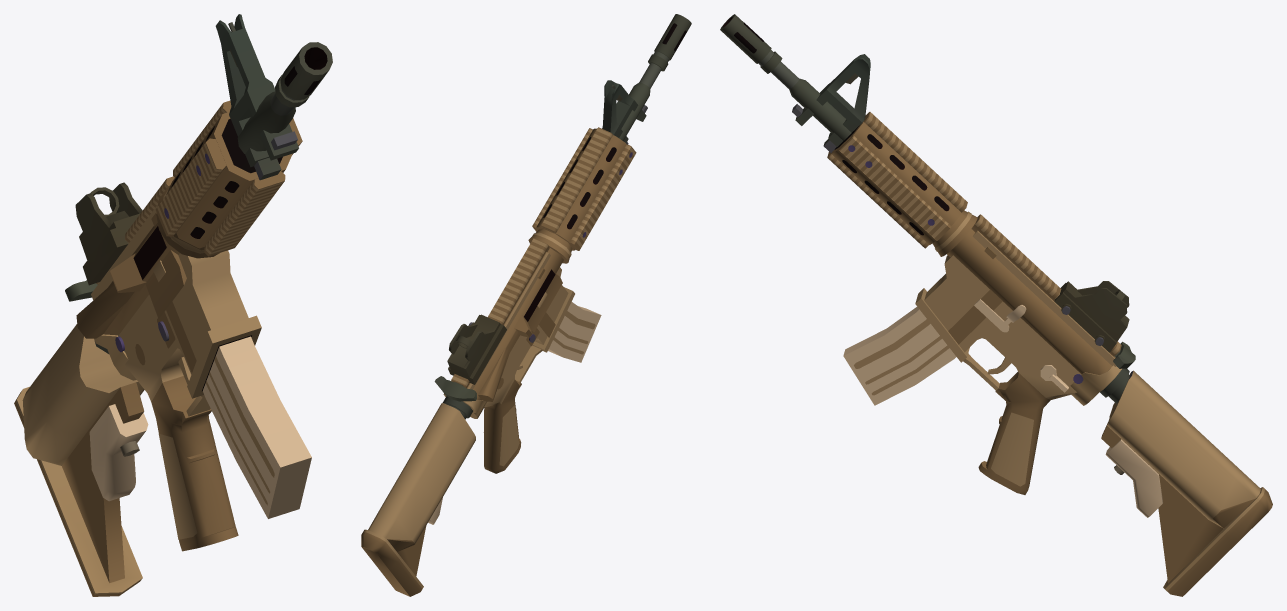
File: Rifle.glb
3 views of the same model, side by side, from view 1: azimuth 30°, elevation 25°; view 2: azimuth 150°, elevation 25°; view 3: azimuth 270°, elevation 25° (orthographic). The views are drawn at different scales.
Parts seen in each view (by area): view 1: Rifle; view 2: Rifle; view 3: Rifle.
Part boxes in pixels (bbox=[...]): Rifle: bbox=[14, 14, 332, 596]; Rifle: bbox=[361, 14, 691, 596]; Rifle: bbox=[720, 14, 1272, 596].
Size of the model in its own units: 0.1473 by 0.5993 by 0.564.
Materials: 1 (1 with a texture image).
